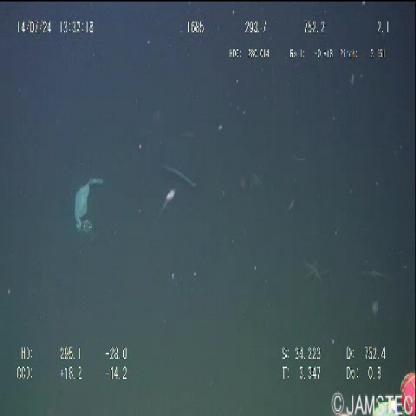Rác: (74, 176, 104, 236)
